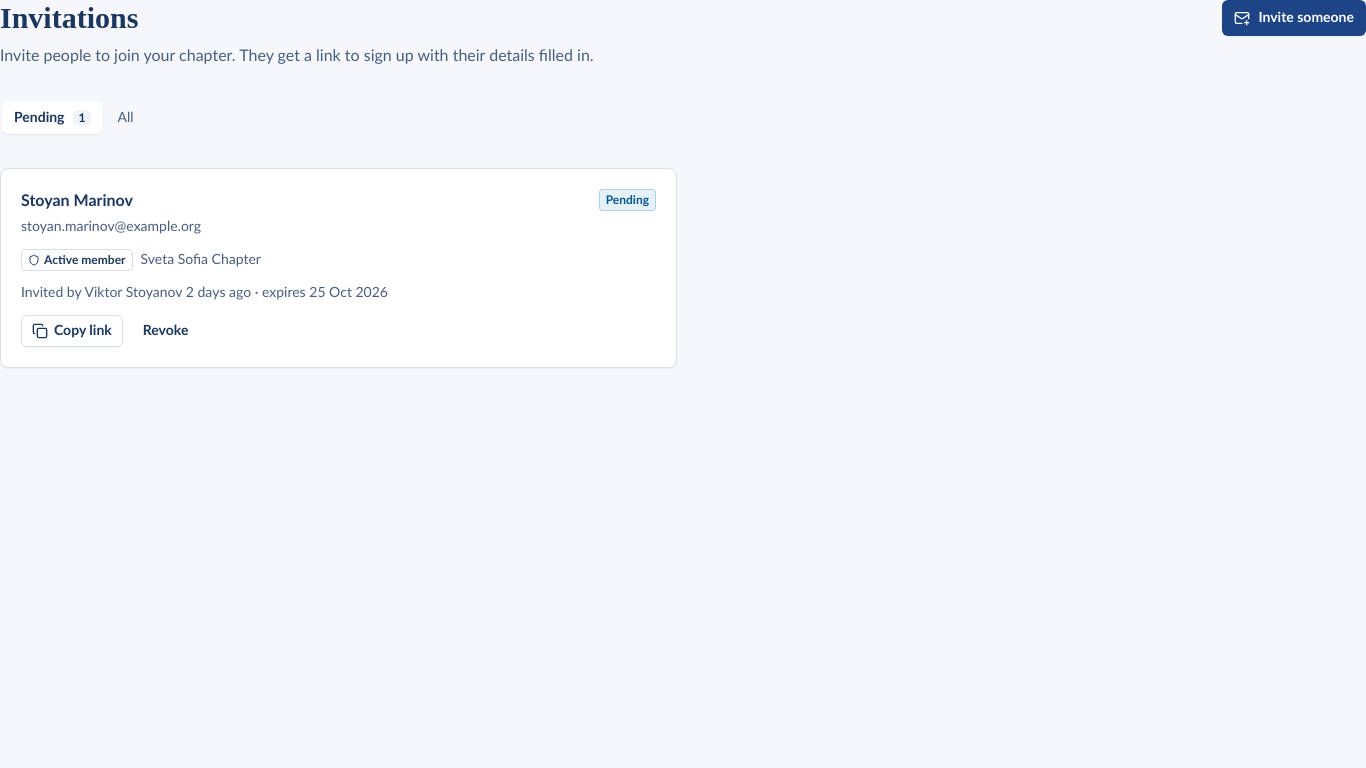
Test: InvitationsPage › creates an invitation and shows the link to share
Check: the heading "Stoyan Marinov" is shown, box [21,193,133,209]
Click the button "Invite someone" at (1294, 18), box [1222,0,1365,36]
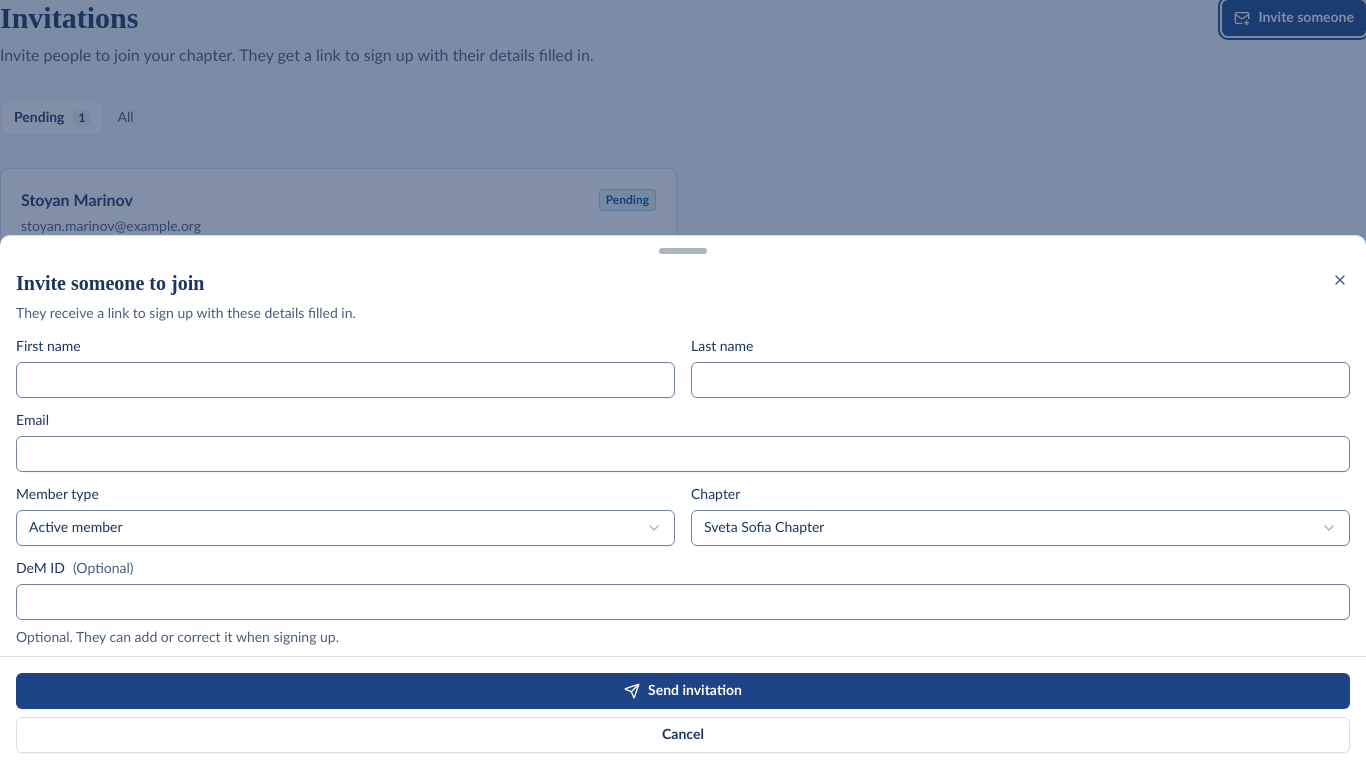
Check: the dropdown labelled "Chapter" reads "Sveta Sofia Chapter", box [691,509,1350,545]
Type "Boyan" into the field labelled "First name" at (346, 379), box [16,361,675,397]
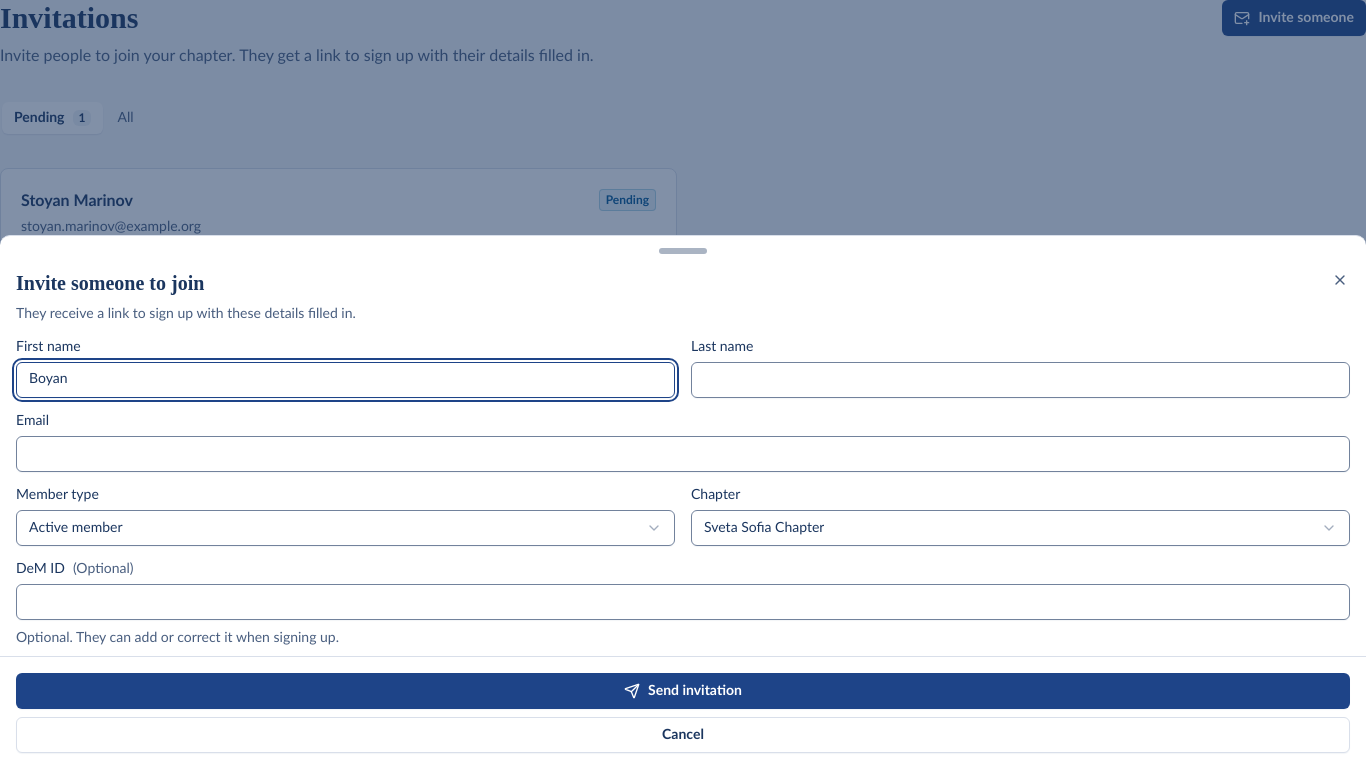
Type "Iliev" into the field labelled "Last name" at (1020, 379), box [691,361,1350,397]
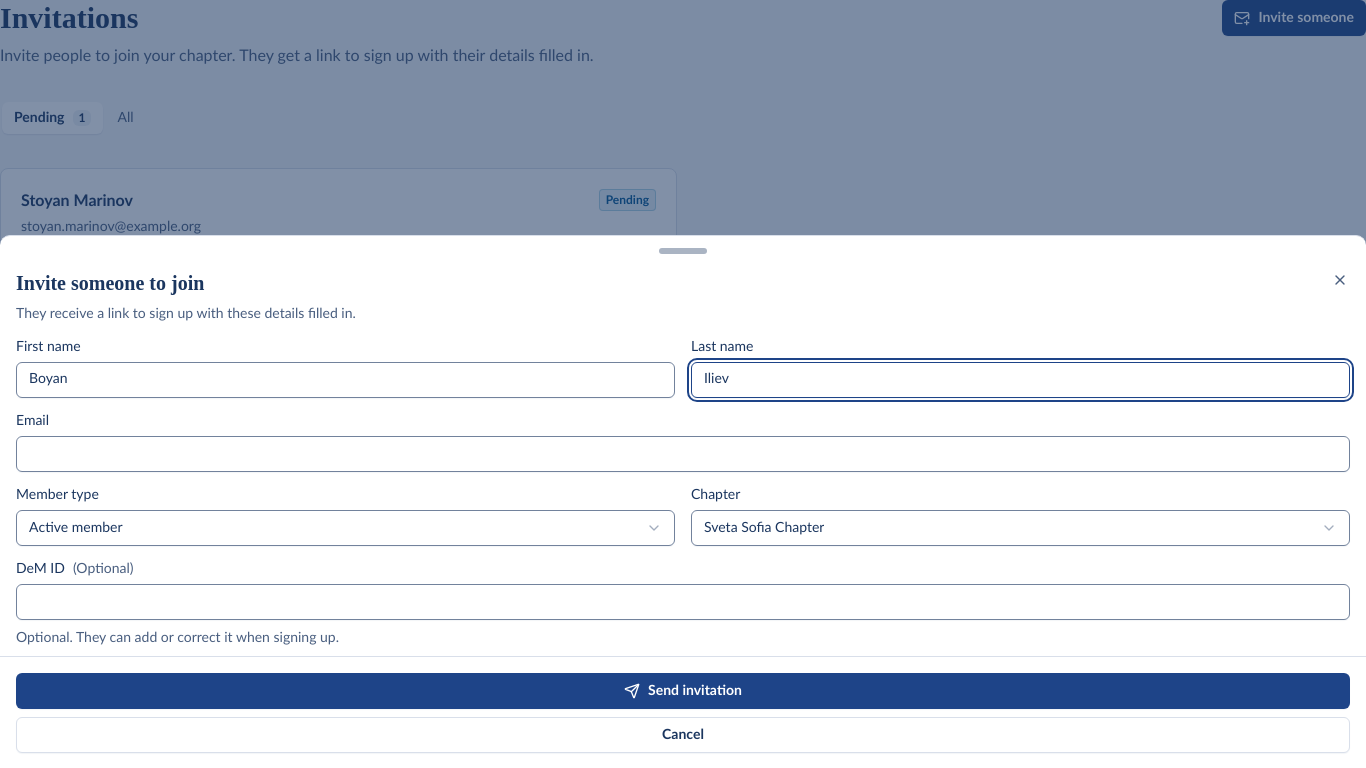
Type "boyan.iliev@example.org" into the field labelled "Email" at (683, 453), box [16,435,1350,471]
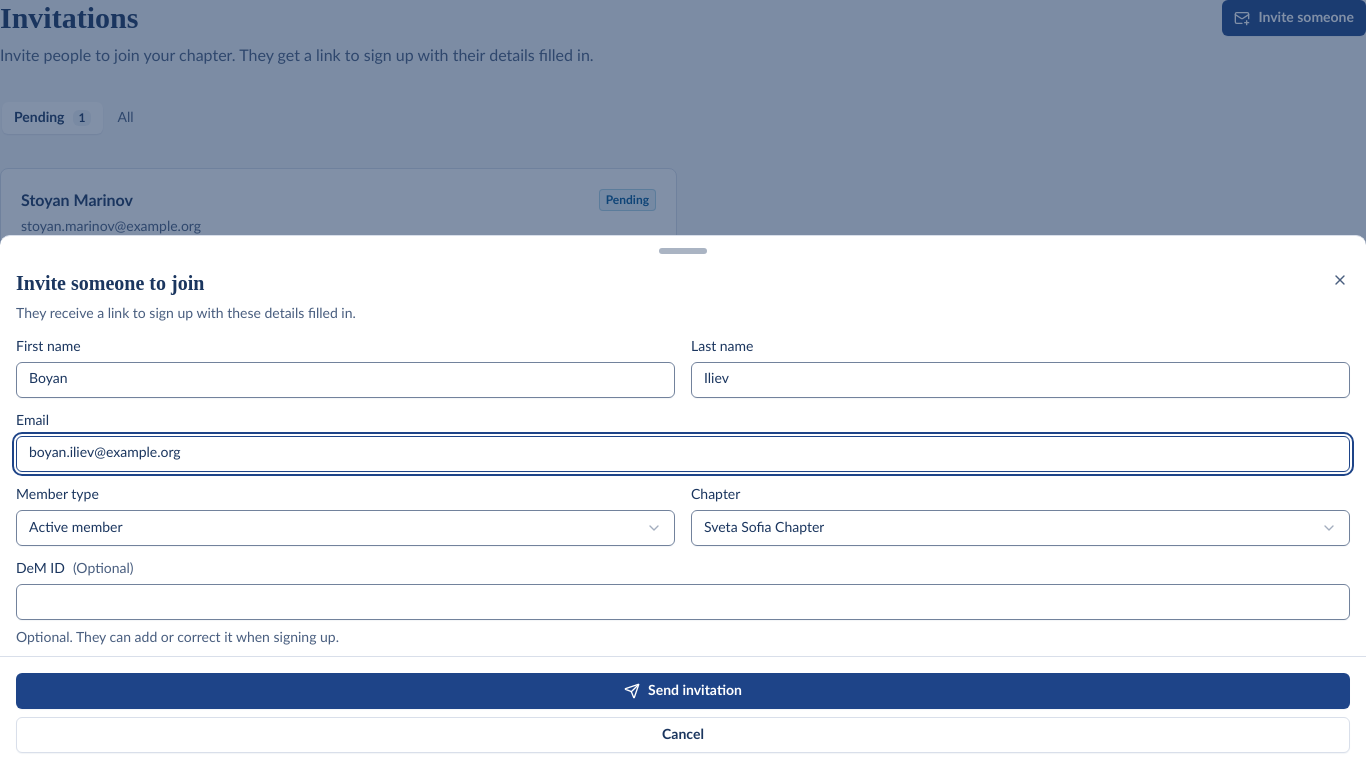
Click the button "Send invitation" at (683, 690), box [16,672,1350,708]
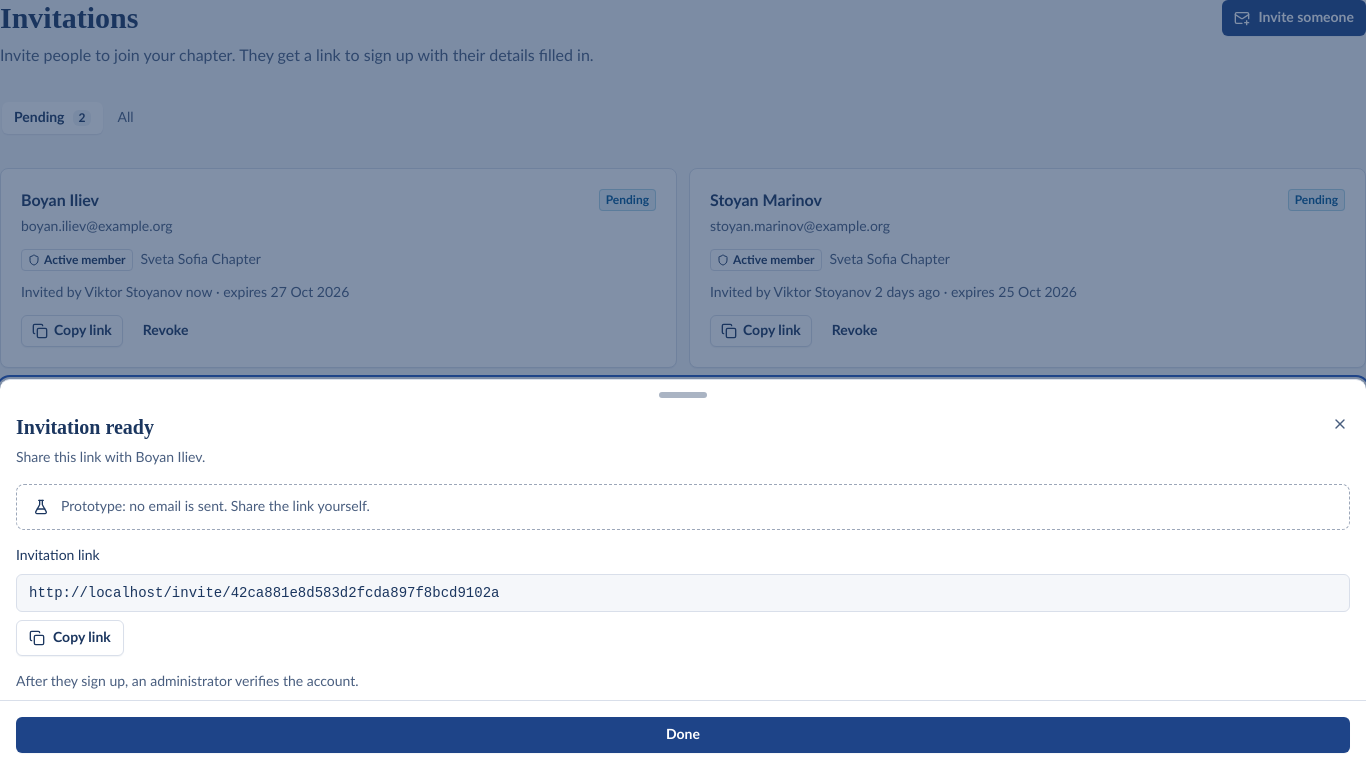
Check: the text "After they sign up, an administrator verifies the account." is shown, box [16,674,359,688]
